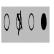correct: (41, 11, 47, 34)
no answer: (28, 10, 35, 34)
not correct: (16, 10, 23, 36)
